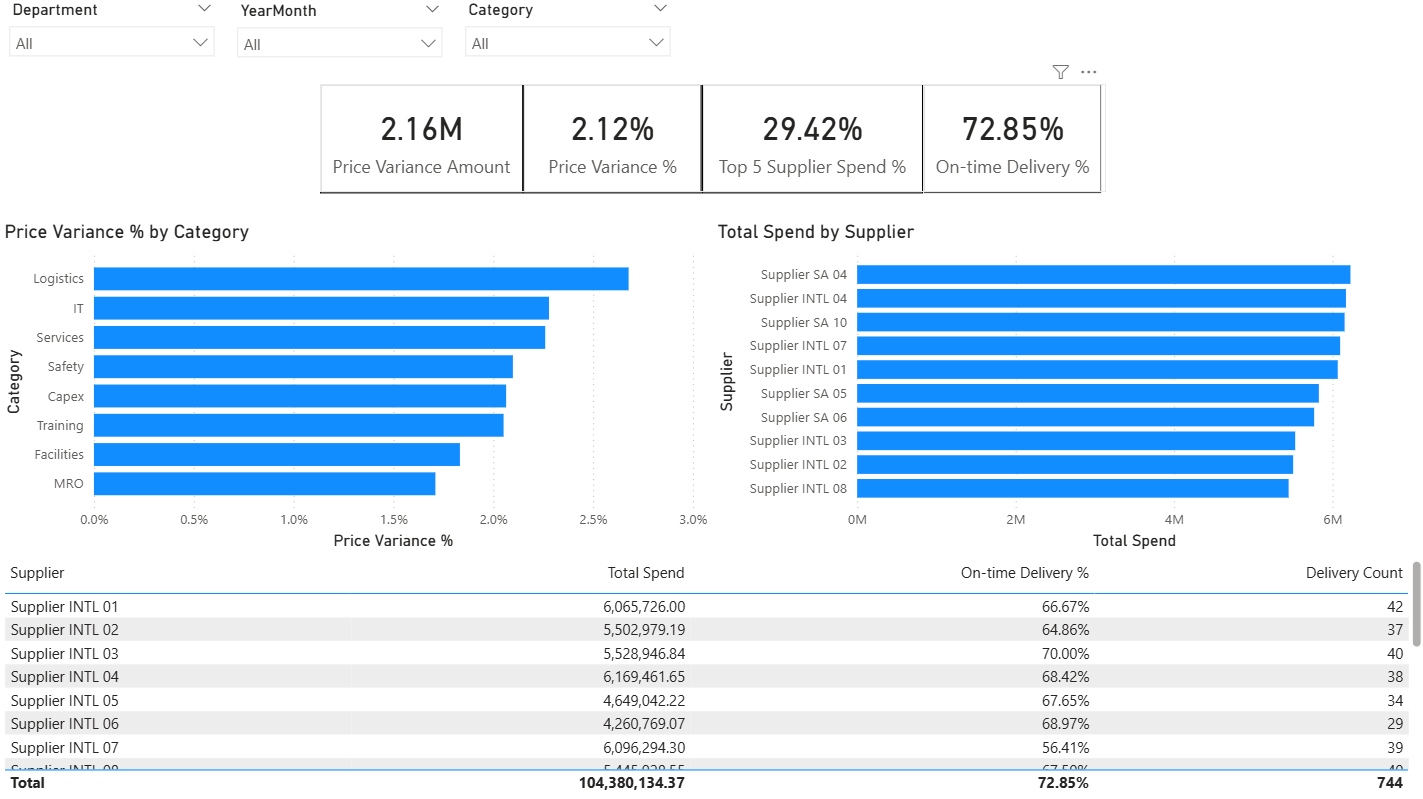

This screenshot's page, from the dashboard's own definition file:
{"tool":"powerbi","page":{"name":"Supplier & Cost Control","canvas":[1280,720],"ordinal":2},"visuals":[{"type":"card","fields":{"Values":["_Measures.Price Variance %"]},"box":[469.6,80,160.5,98.3],"z":0,"group":"g1"},{"type":"barChart","fields":{"Category":["purchase_requisitions.Category"],"Y":["_Measures.Price Variance %"]},"box":[1.2,201.5,639.4,299.8],"z":0},{"type":"card","fields":{"Values":["_Measures.Top 5 Supplier Spend %"]},"box":[630.1,80,197.8,98.3],"z":1000,"group":"g1"},{"type":"barChart","fields":{"Category":["purchase_orders.Supplier"],"Y":["_Measures.Total Spend"]},"box":[639.4,201.5,640.6,299.8],"z":1000},{"type":"card","fields":{"Values":["_Measures.On-time Delivery %"]},"box":[827.9,80,160.5,98.3],"z":2000,"group":"g1"},{"type":"tableEx","fields":{"Values":["purchase_orders.Supplier","_Measures.Total Spend","_Measures.On-time Delivery %","_Measures.Delivery Count"]},"box":[0,501.3,1280,218.9],"z":2000},{"type":"card","fields":{"Values":["_Measures.Price Variance Amount"]},"box":[288,80,181.6,98.3],"z":3000,"group":"g1"},{"type":"slicer","fields":{"Values":["DimDepartment.Department"]},"box":[0,0,204,75.9],"z":3000},{"type":"slicer","fields":{"Values":["DimMonth.YearMonth"]},"box":[204,1.2,204,75.9],"z":4000},{"type":"slicer","fields":{"Values":["purchase_requisitions.Category"]},"box":[408,0,204,75.9],"z":5000},{"type":"group","id":"g1","title":"Group 1","box":[288,80,704,96],"z":6000}]}

Visuals, with their boxes in screenshot pixels (x1, y1, x2, y2), scaled from the page's 1280x720 canvas onto the 1423x799 screenshot:
card - _Measures.Price Variance %: 522, 89, 700, 198
barChart - purchase_requisitions.Category x _Measures.Price Variance %: 1, 224, 712, 556
card - _Measures.Top 5 Supplier Spend %: 700, 89, 920, 198
barChart - purchase_orders.Supplier x _Measures.Total Spend: 711, 224, 1422, 556
card - _Measures.On-time Delivery %: 920, 89, 1099, 198
tableEx - purchase_orders.Supplier x _Measures.Total Spend: 0, 556, 1422, 798
card - _Measures.Price Variance Amount: 320, 89, 522, 198
slicer - DimDepartment.Department: 0, 0, 227, 84
slicer - DimMonth.YearMonth: 227, 1, 454, 86
slicer - purchase_requisitions.Category: 454, 0, 680, 84
"Group 1" group: 320, 89, 1103, 195
